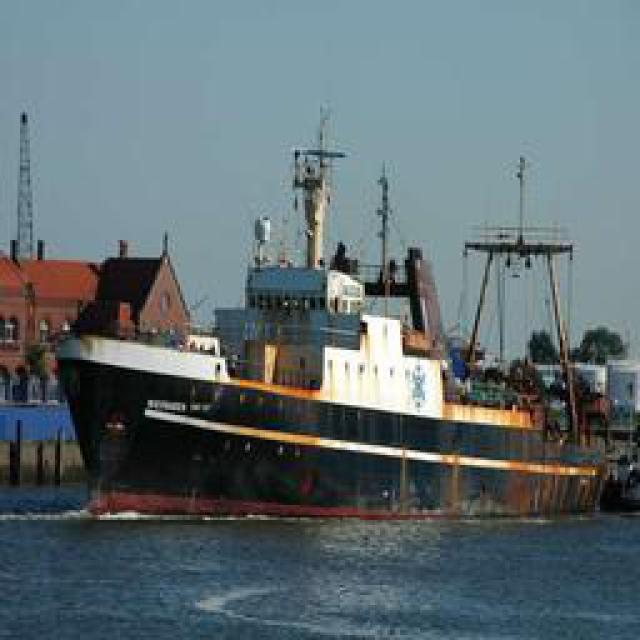Ship: (47, 99, 607, 509)
